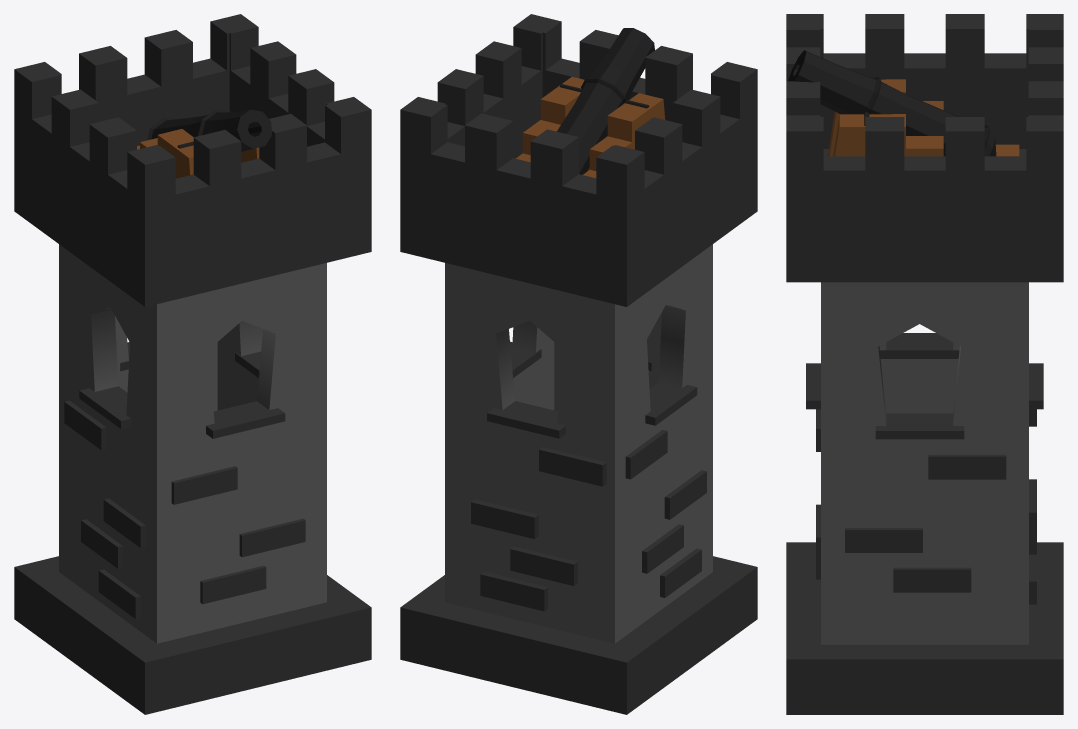
The model's file is canon_AITower 1.FBX.
The picture shows the model from 3 angles, left to right: view 1: azimuth 30°, elevation 25°; view 2: azimuth 150°, elevation 25°; view 3: azimuth 270°, elevation 25°; orthographic projection. The views are drawn at different scales.
Parts seen in each view (by area): view 1: Box001, Box002, Box003, Tube001, Box012, Box022, Box021, Box020, Box009, Box005, Box006, Box007 (+1 smaller); view 2: Box001, Box002, Box003, Tube001, Box011, Box024, Box023, Box019, Box025, Box009, Box007, Box005 (+3 smaller); view 3: Box001, Box002, Box003, Tube001, Box010, Box013, Box015, Box014, Box009, Box011, Box012, Box024.
Part boxes in pixels (x1,y1,x2,y2): Box001: [59, 244, 326, 643]; Box002: [14, 14, 371, 306]; Box003: [14, 556, 371, 714]; Tube001: [137, 109, 271, 178]; Box012: [206, 401, 285, 438]; Box022: [200, 565, 266, 604]; Box021: [239, 518, 305, 557]; Box020: [171, 466, 237, 504]; Box009: [79, 386, 131, 428]; Box005: [64, 400, 106, 450]; Box006: [98, 569, 140, 618]; Box007: [103, 498, 145, 547]; Box001: [445, 244, 712, 643]; Box002: [400, 14, 757, 306]; Box003: [400, 556, 757, 714]; Tube001: [516, 28, 665, 178]; Box011: [487, 401, 565, 438]; Box024: [471, 499, 538, 539]; Box023: [539, 447, 606, 486]; Box019: [480, 571, 547, 611]; Box025: [510, 546, 577, 585]; Box009: [645, 382, 697, 425]; Box007: [664, 470, 706, 519]; Box005: [625, 430, 667, 479]; Box001: [821, 282, 1028, 644]; Box002: [786, 14, 1063, 282]; Box003: [786, 542, 1063, 714]; Tube001: [788, 50, 1019, 156]; Box010: [875, 413, 964, 439]; Box013: [928, 454, 1006, 479]; Box015: [893, 567, 971, 592]; Box014: [845, 528, 922, 552]; Box009: [880, 333, 959, 358]; Box011: [1029, 363, 1043, 409]; Box012: [806, 363, 820, 409]; Box024: [1029, 479, 1036, 535].
Bounding box in the file's own units: 59.97 × 144 × 59.97.
